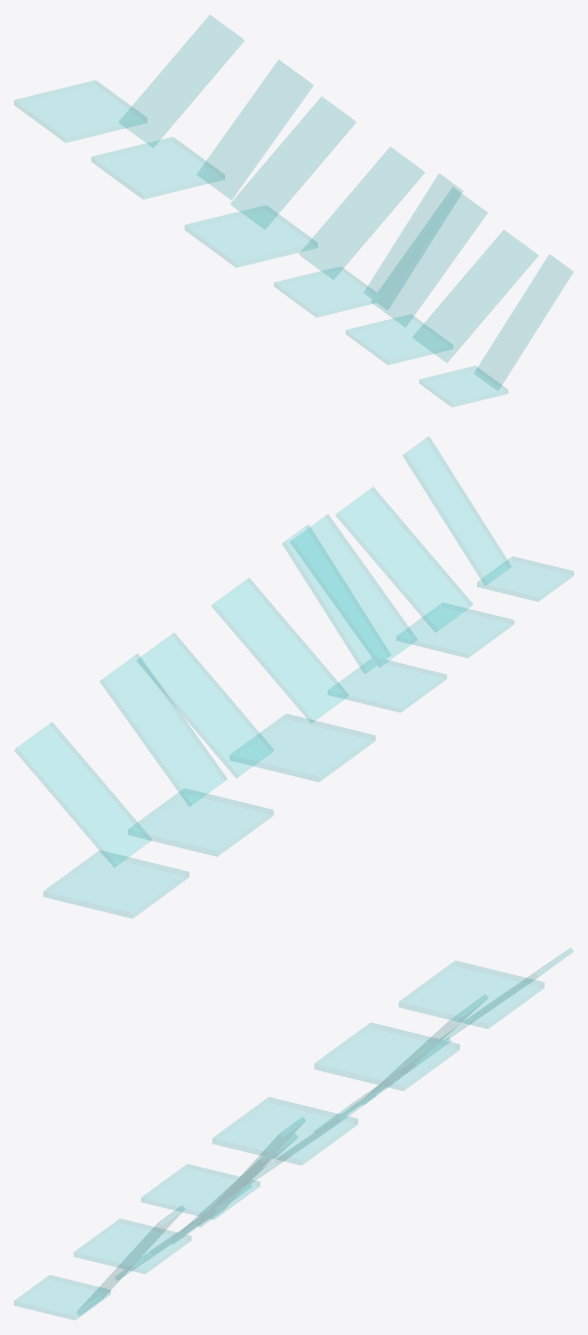
File: SM_SubwayLight.fbx
3 views of the same model, one above another, from view 1: azimuth 30°, elevation 25°; view 2: azimuth 150°, elevation 25°; view 3: azimuth 330°, elevation 25° (orthographic). The views are drawn at different scales.
Parts seen in each view (by area): view 1: group201_pasted__group195_pasted__pasted__group194_pasted__p; view 2: group201_pasted__group195_pasted__pasted__group194_pasted__p; view 3: group201_pasted__group195_pasted__pasted__group194_pasted__p.
Part boxes in pixels (bbox=[...]): group201_pasted__group195_pasted__pasted__group194_pasted__p: bbox=[14, 15, 572, 406]; group201_pasted__group195_pasted__pasted__group194_pasted__p: bbox=[14, 437, 573, 917]; group201_pasted__group195_pasted__pasted__group194_pasted__p: bbox=[14, 948, 573, 1319].
Bounding box in the file's own units: 935 × 613 × 4438.
